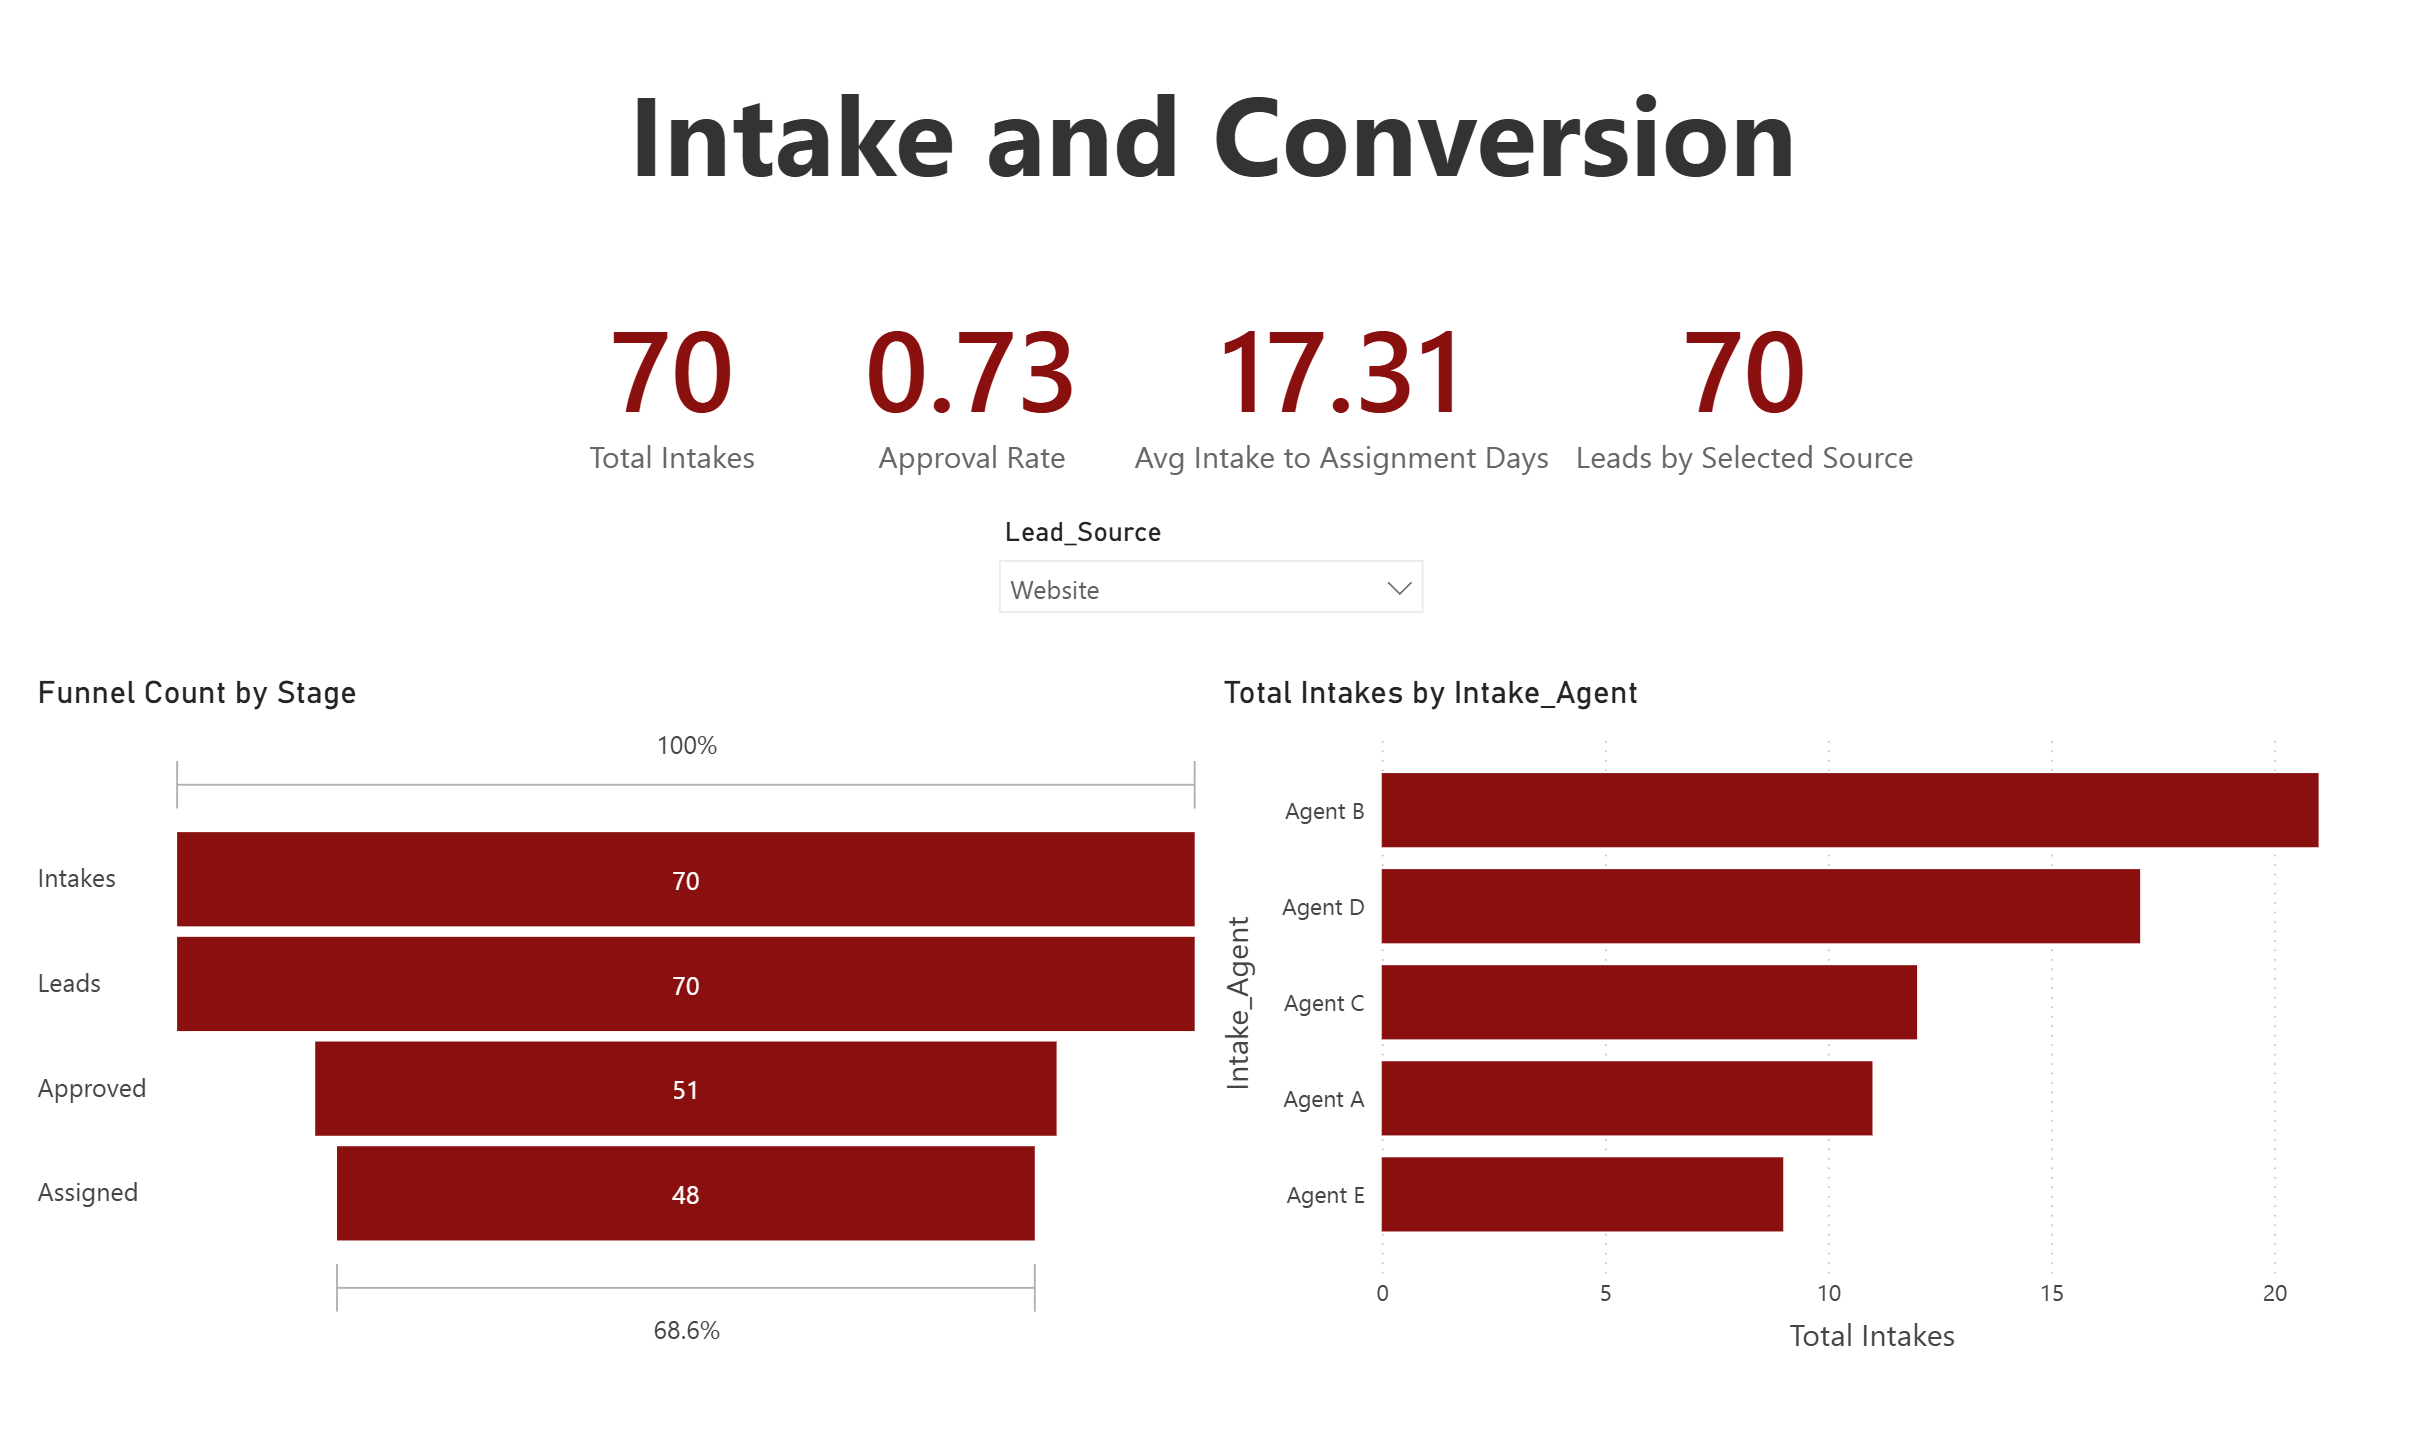

What the dashboard file says about the page in this screenshot:
{"tool":"powerbi","page":{"name":"Page 2","canvas":[1280,720],"ordinal":1},"visuals":[{"type":"textbox","box":[0,28.9,1280,92.6],"z":0},{"type":"card","fields":{"Values":["intake.Total Intakes"]},"box":[259.8,141.4,190.1,129.9],"z":1000},{"type":"card","fields":{"Values":["intake.Approval Rate"]},"box":[417.4,141.4,190.1,129.9],"z":2000},{"type":"card","fields":{"Values":["cases.Avg Intake to Assignment Days"]},"box":[593.1,141.4,229.8,129.9],"z":3000},{"type":"card","fields":{"Values":["intake.Leads by Selected Source"]},"box":[822.9,141.4,194.9,129.9],"z":4000},{"type":"funnel","fields":{"Category":["Funnel_Stages.Stage"],"Y":["Funnel_Stages.Funnel Count"]},"box":[14.4,359.7,625.6,363.3],"z":5000},{"type":"barChart","fields":{"Category":["intake.Intake_Agent"],"Y":["intake.Total Intakes"]},"box":[640,359.7,618.3,363.3],"z":6000},{"type":"slicer","fields":{"Values":["intake.Lead_Source"]},"box":[517.3,270.7,244.2,65],"z":7000}]}

Visuals, with their boxes on the page's 1280x720 design canvas (x1, y1, x2, y2). These are canvas units, not pixel positions in the 2414x1446 screenshot, which may show the page scaled, cropped or inside an application window:
textbox: <region>0, 29, 1280, 122</region>
card - intake.Total Intakes: <region>260, 141, 450, 271</region>
card - intake.Approval Rate: <region>417, 141, 608, 271</region>
card - cases.Avg Intake to Assignment Days: <region>593, 141, 823, 271</region>
card - intake.Leads by Selected Source: <region>823, 141, 1018, 271</region>
funnel - Funnel_Stages.Stage x Funnel_Stages.Funnel Count: <region>14, 360, 640, 723</region>
barChart - intake.Intake_Agent x intake.Total Intakes: <region>640, 360, 1258, 723</region>
slicer - intake.Lead_Source: <region>517, 271, 762, 336</region>
